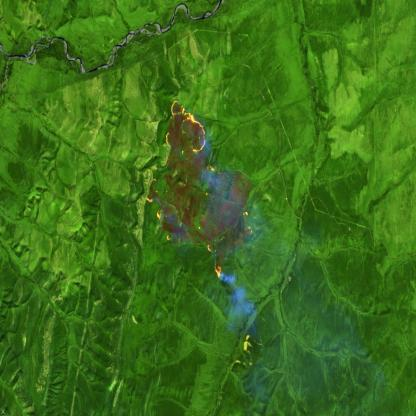fire: (143, 95, 255, 288)
